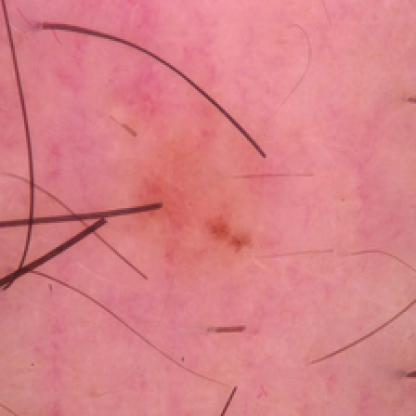benign: (117, 139, 273, 266)
